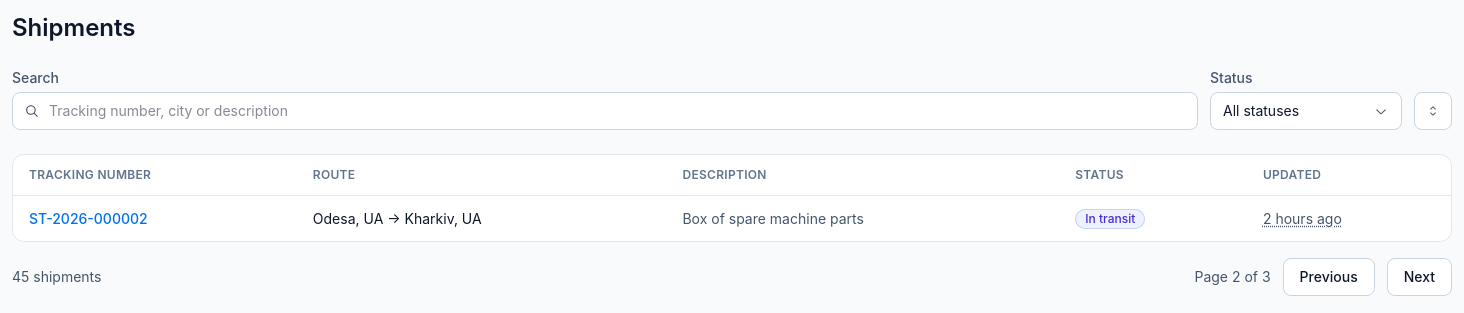
Test: ShipmentsList › filters and pagination › keeps the previous rows while the next page loads
This screenshot has width=1464, height=313.
Later steps or results of the test are not shown.
Click the button "Next".
click(1419, 277)  # box x1=1387 y1=258 x2=1452 y2=296
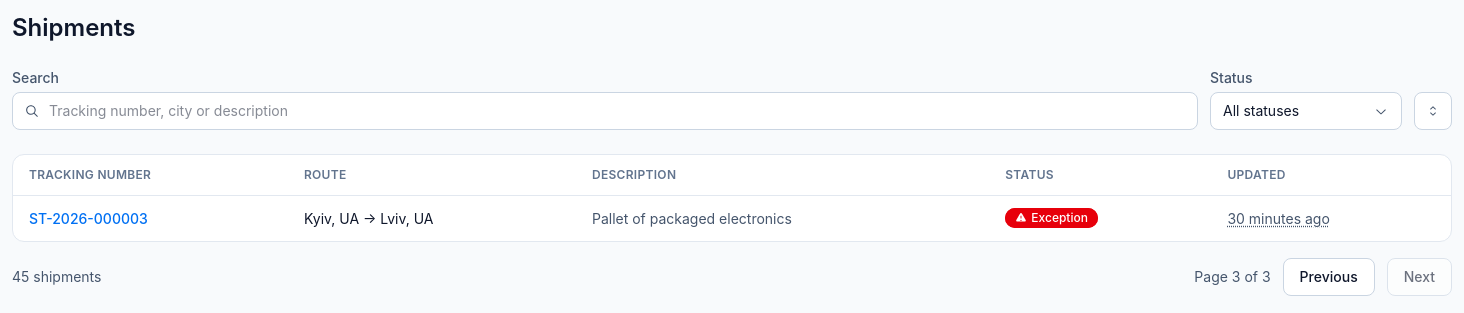
expect the link "ST-2026-000003" is shown: met, box x1=29 y1=210 x2=148 y2=226
expect the text "Page 3 of 3" is shown: met, box x1=1194 y1=267 x2=1271 y2=287
